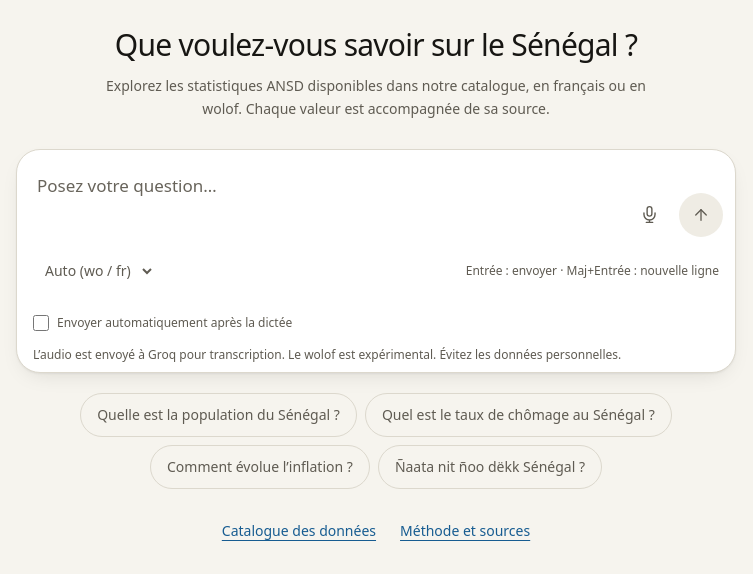
Scenario: shows a transcription error without losing the existing draft
In the text box: point(328, 199) [37,162,619,236], type "Mon brouillon"
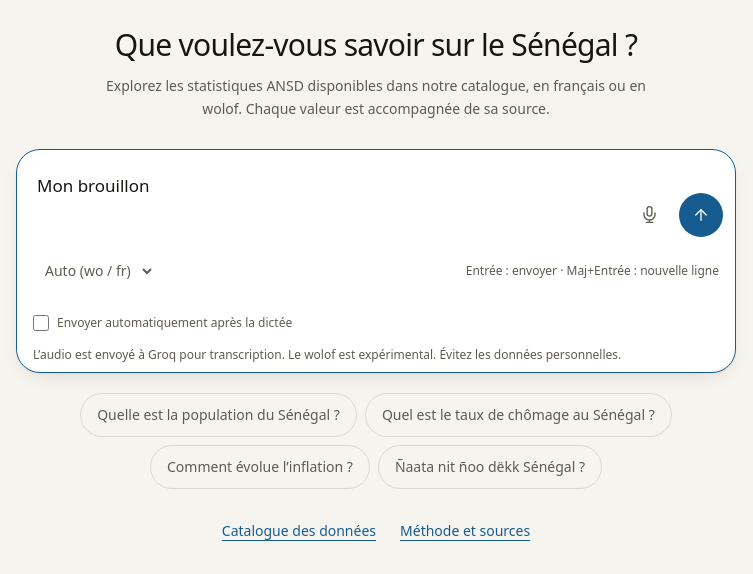
Click the button named "Dicter une question": point(649, 214) [627,192,671,236]
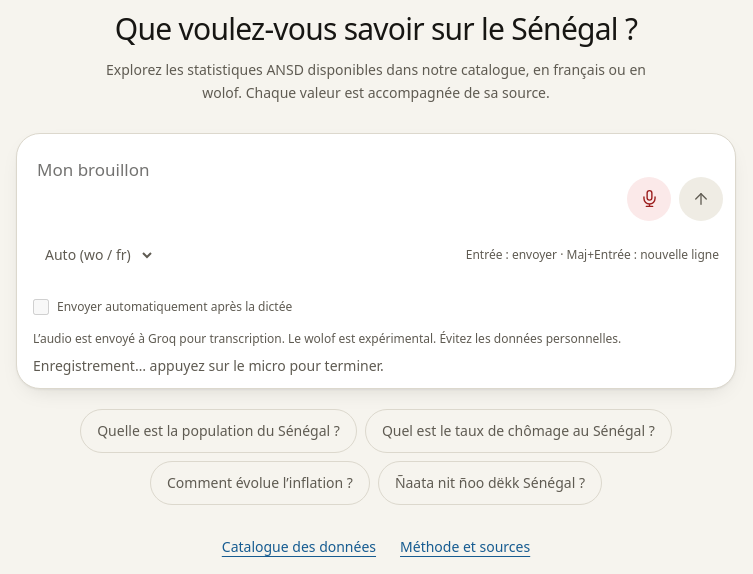
Click the button named "Terminer l’enregistrement": point(649, 198) [627,176,671,220]
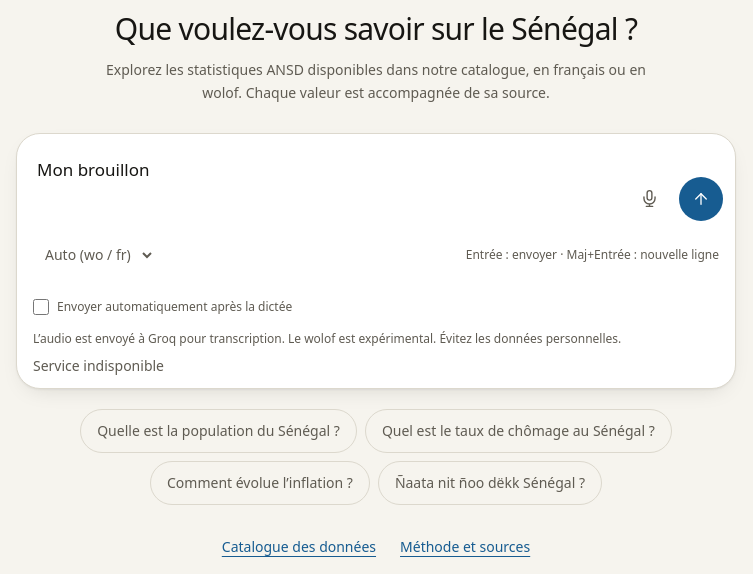
Result: the text "Service indisponible" is shown at [33,356,164,375]
